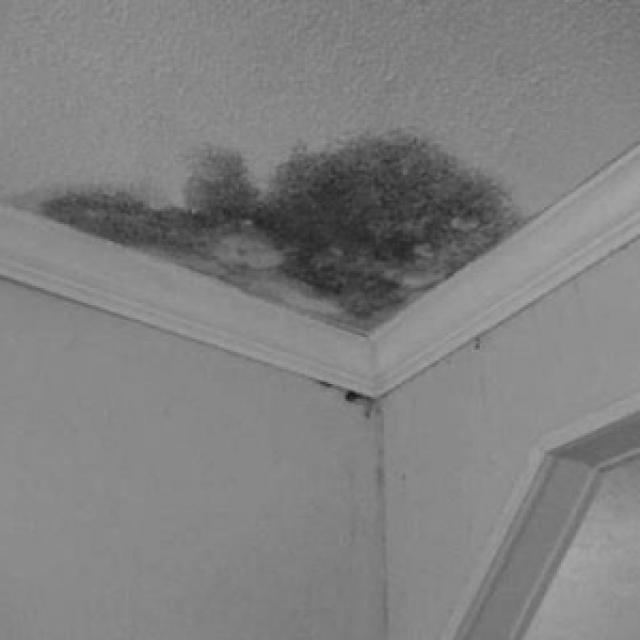stain marks: (0, 112, 554, 345), (269, 370, 388, 495), (470, 338, 504, 432)
